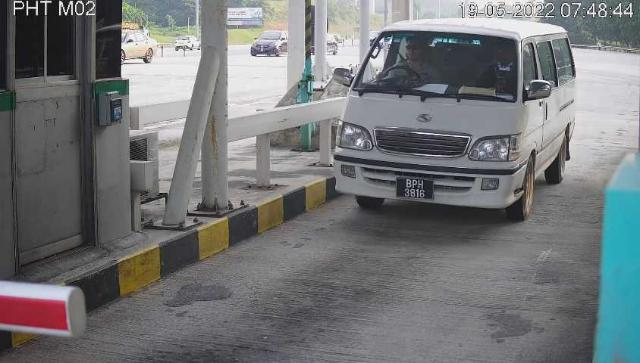License_Plate: (396, 179, 436, 204)
van: (335, 19, 577, 222)
